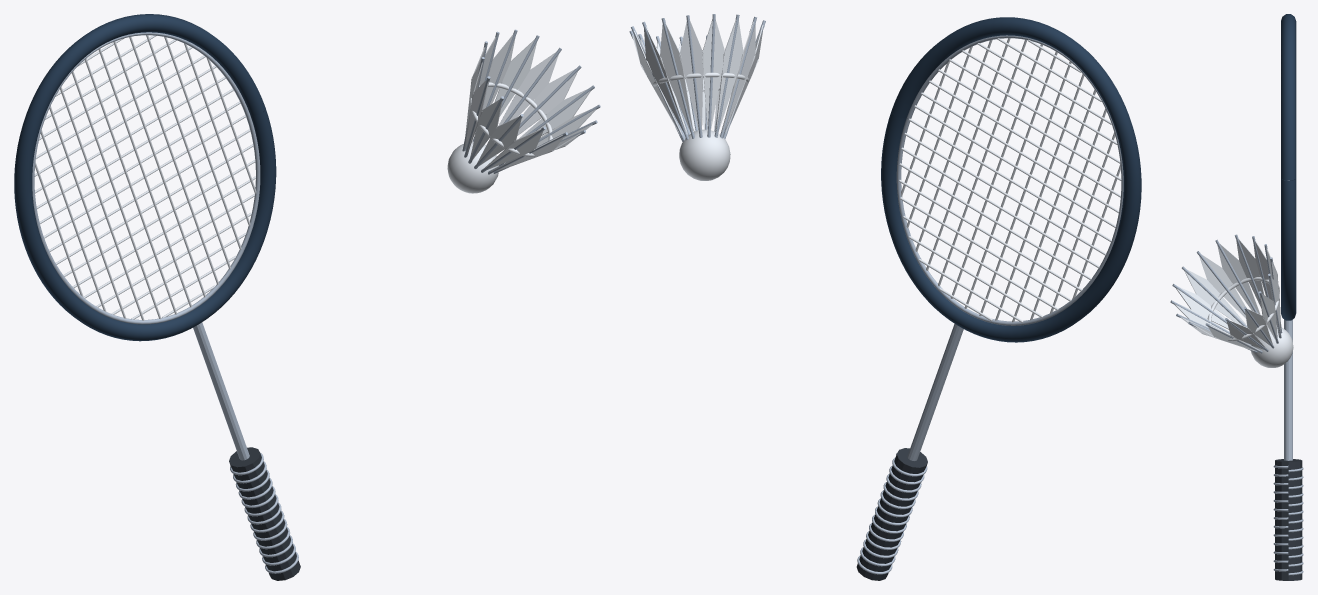
File: badminton.glb
The picture shows the model from 3 angles, left to right: view 1: azimuth 30°, elevation 25°; view 2: azimuth 150°, elevation 25°; view 3: azimuth 270°, elevation 25°; orthographic projection. The views are drawn at different scales.
Visible parts, largest first — view 1: Carbon frame, Handle, Inner silver trim, Cork, Shaft, Feather vane.003, Feather vane.002, Feather vane.004, Vertical string.006, Feather vane.001, Vertical string.007, Vertical string.005 (+6 smaller); view 2: Carbon frame, Handle, Inner silver trim, Cork, Shaft, Feather vane.006, Feather vane.007, Feather vane.005, Feather vane.008, Feather vane.004, Feather vane.009, Vertical string.006 (+11 smaller); view 3: Carbon frame, Handle, Shaft, Cork, Feather vane.009, Feather vane.010, Feather vane.011, Feather vane.008, Feather vane.012, Shuttle binding, Feather vane.002, Feather vane.001 (+9 smaller).
Boxes of the visible parts, x1=… form: Carbon frame: x1=14, y1=14, x2=276, y2=341; Handle: x1=229, y1=447, x2=300, y2=580; Inner silver trim: x1=32, y1=32, x2=260, y2=324; Cork: x1=447, y1=141, x2=498, y2=193; Shaft: x1=193, y1=322, x2=249, y2=460; Feather vane.003: x1=498, y1=52, x2=558, y2=125; Feather vane.002: x1=517, y1=69, x2=577, y2=135; Feather vane.004: x1=495, y1=39, x2=537, y2=116; Vertical string.006: x1=98, y1=48, x2=192, y2=307; Feather vane.001: x1=519, y1=88, x2=590, y2=138; Vertical string.007: x1=113, y1=41, x2=205, y2=297; Vertical string.005: x1=84, y1=58, x2=177, y2=314; Carbon frame: x1=881, y1=17, x2=1141, y2=342; Handle: x1=856, y1=448, x2=927, y2=580; Inner silver trim: x1=896, y1=35, x2=1123, y2=325; Cork: x1=679, y1=129, x2=730, y2=180; Shaft: x1=907, y1=324, x2=963, y2=460; Feather vane.006: x1=679, y1=20, x2=703, y2=130; Feather vane.007: x1=702, y1=19, x2=725, y2=131; Feather vane.005: x1=660, y1=23, x2=693, y2=131; Feather vane.008: x1=715, y1=19, x2=743, y2=131; Feather vane.004: x1=644, y1=26, x2=686, y2=133; Feather vane.009: x1=722, y1=21, x2=755, y2=132; Vertical string.006: x1=964, y1=51, x2=1057, y2=308; Carbon frame: x1=1281, y1=14, x2=1296, y2=320; Handle: x1=1275, y1=459, x2=1302, y2=580; Shaft: x1=1284, y1=319, x2=1292, y2=460; Cork: x1=1251, y1=326, x2=1293, y2=367; Feather vane.009: x1=1217, y1=243, x2=1260, y2=314; Feather vane.010: x1=1199, y1=254, x2=1245, y2=318; Feather vane.011: x1=1184, y1=269, x2=1246, y2=325; Feather vane.008: x1=1236, y1=238, x2=1264, y2=307; Feather vane.012: x1=1176, y1=286, x2=1228, y2=329; Shuttle binding: x1=1207, y1=277, x2=1278, y2=341; Feather vane.002: x1=1245, y1=308, x2=1272, y2=345; Feather vane.001: x1=1227, y1=320, x2=1266, y2=349.
Size of the model in its own units: 3.13 by 3.29 by 0.7995.
